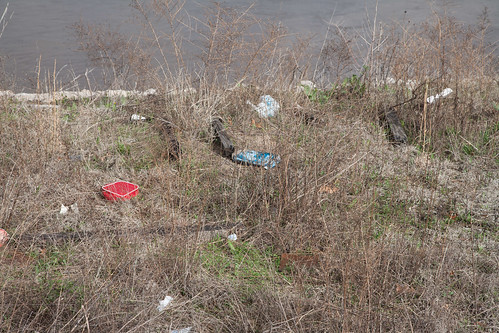trash: (102, 71, 456, 209)
vegetation: (1, 71, 491, 333)
